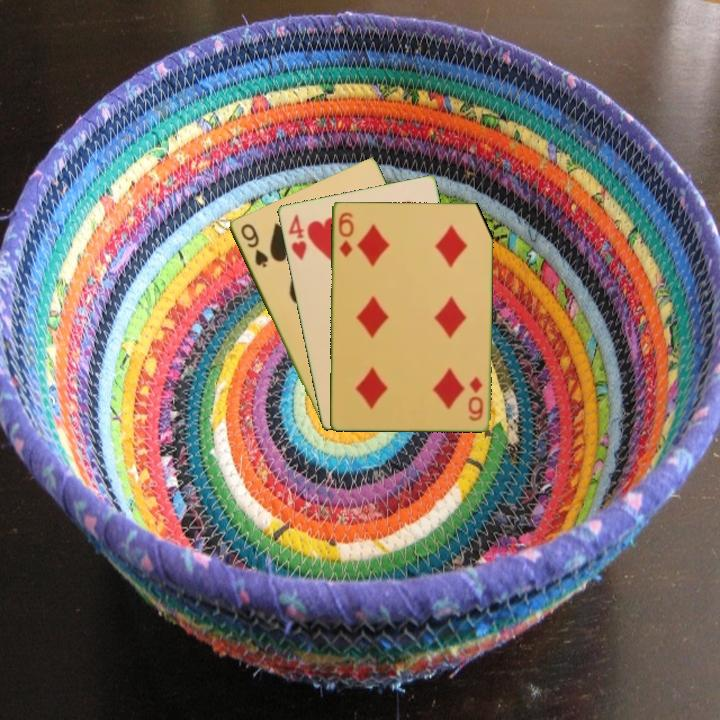4h: (284, 211, 309, 263)
6d: (335, 208, 356, 259), (465, 373, 486, 423)
9s: (237, 220, 271, 271)
